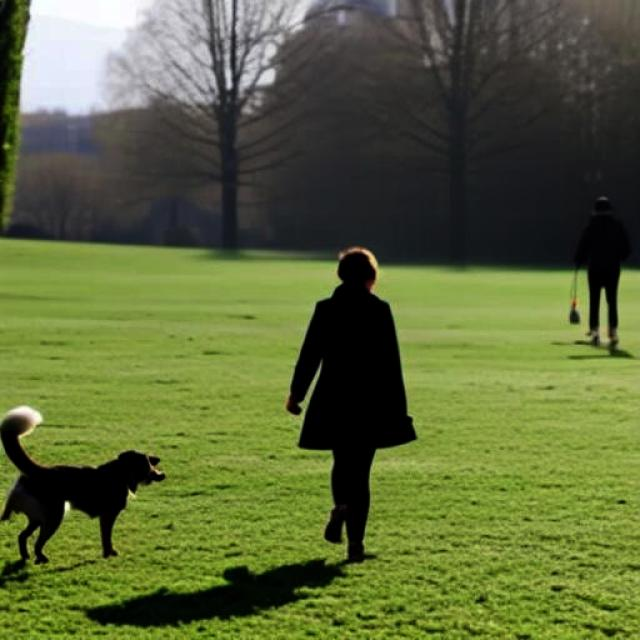Unleashed_Dog: (0, 377, 391, 566)
